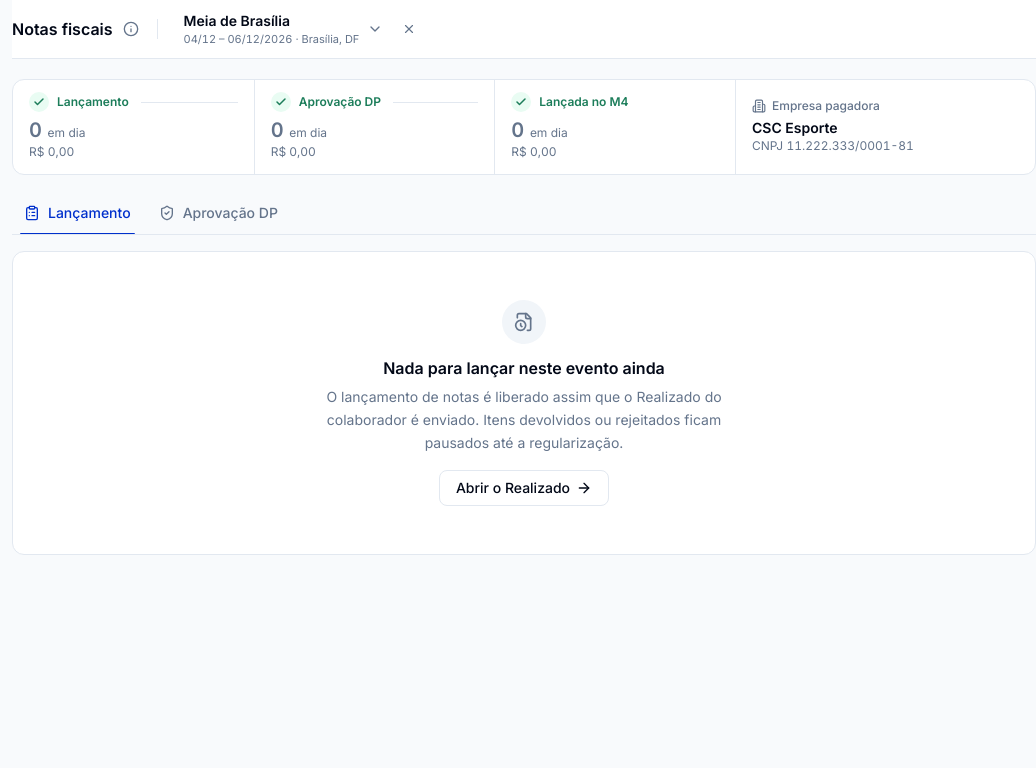
InvoicesPage — limpar o evento › o '×' da barra limpa o evento e a tela pede um evento (não volta sozinho para o primeiro)
Click the button named "Limpar evento selecionado".
click(409, 29)  # box [395, 15, 423, 43]
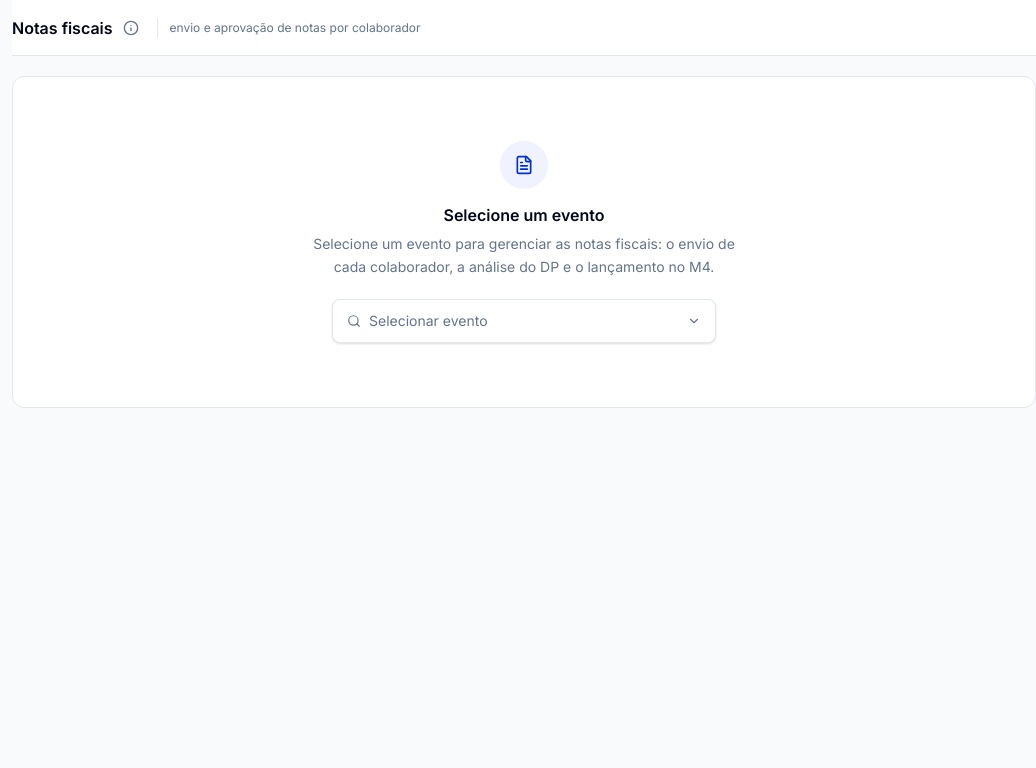
Now the heading "Selecione um evento" is shown, box [444, 203, 604, 227]
